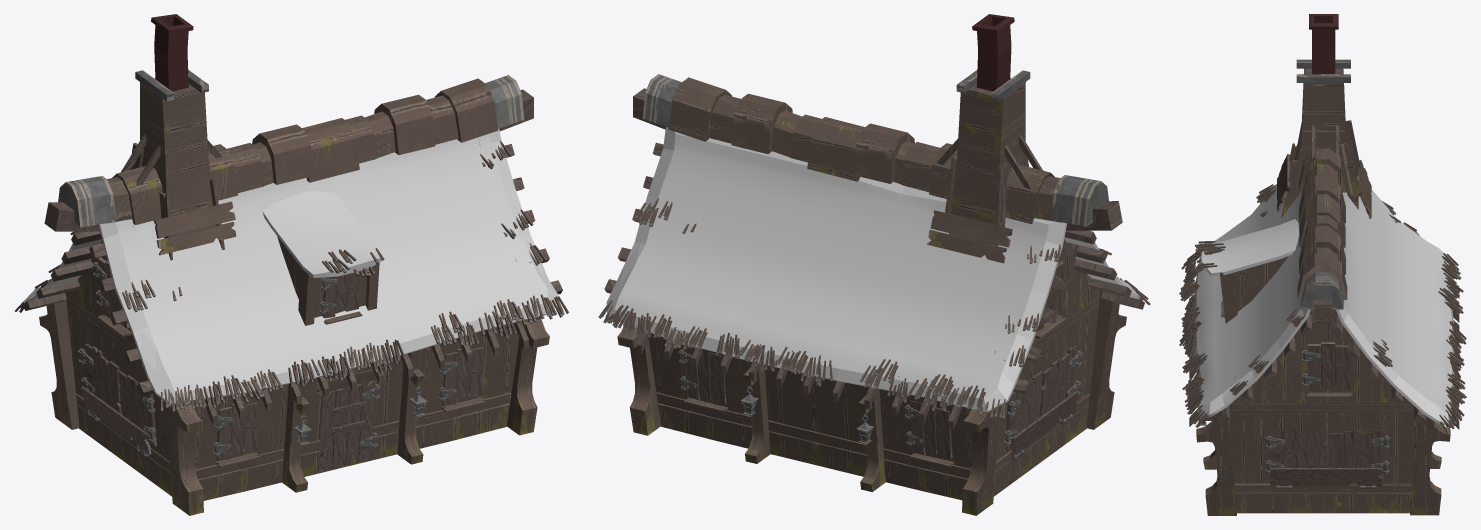
File: SM_House_Big01.fbx
The picture shows the model from 3 angles, left to right: view 1: azimuth 30°, elevation 25°; view 2: azimuth 150°, elevation 25°; view 3: azimuth 270°, elevation 25°; orthographic projection. The views are drawn at different scales.
Parts seen in each view (by area): view 1: Object368, Object360, Object365; view 2: Object368, Object360, Object365; view 3: Object368, Object360, Object365.
Boxes of the visible parts, bbox=[...] form: Object368: bbox=[15, 70, 569, 515]; Object360: bbox=[23, 128, 558, 404]; Object365: bbox=[151, 14, 193, 91]; Object368: bbox=[598, 70, 1150, 515]; Object360: bbox=[606, 127, 1140, 412]; Object365: bbox=[972, 14, 1014, 91]; Object368: bbox=[1179, 59, 1466, 515]; Object360: bbox=[1194, 177, 1454, 425]; Object365: bbox=[1309, 14, 1338, 74].
Size of the model in its own units: 931 by 809 by 564.
